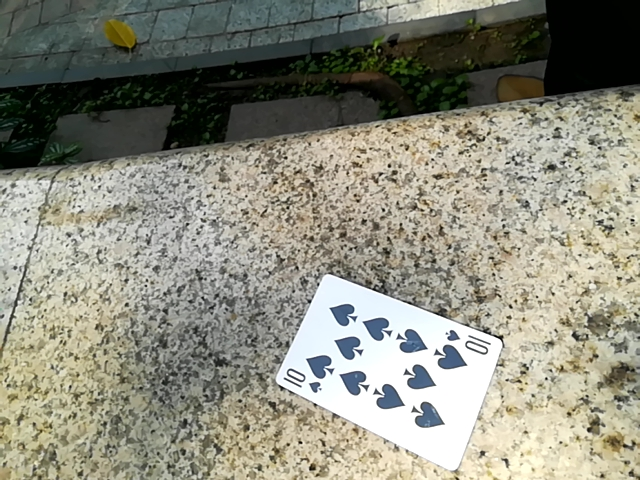ht 10: (276, 274, 497, 476)
